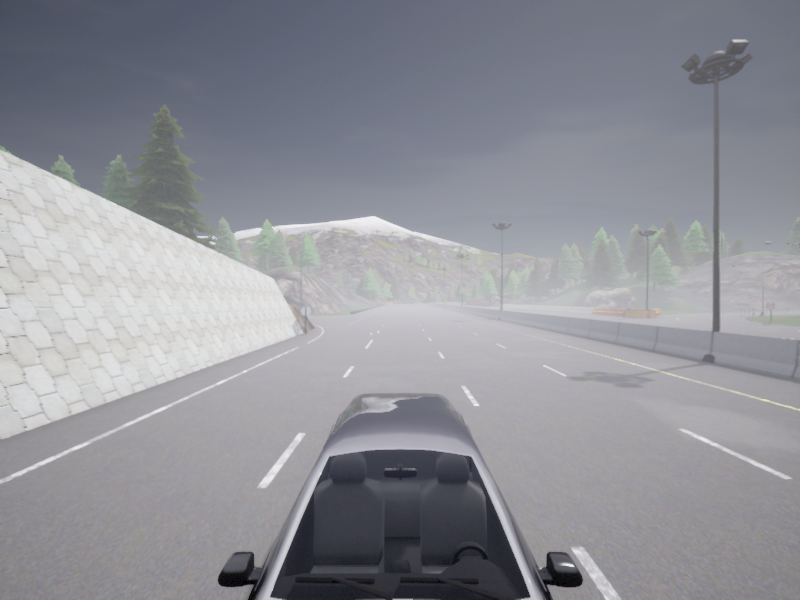vehicle: (218, 393, 582, 599)
